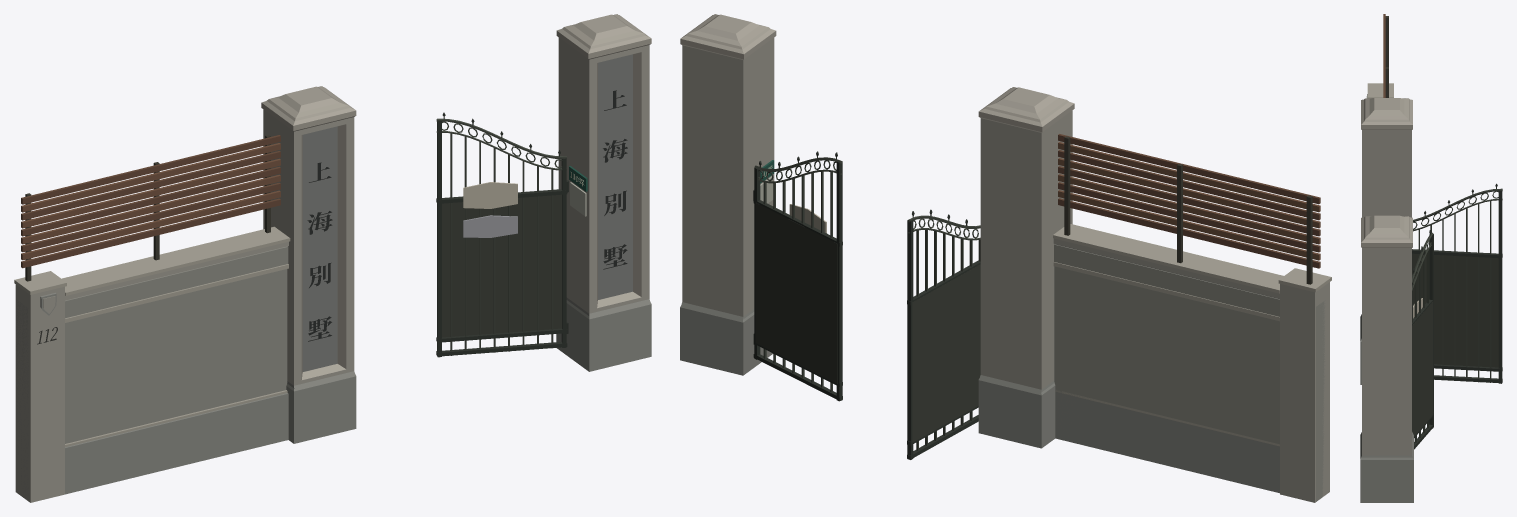
File: huangpu-shanghai-villas-nanchang-lane-110-inscribed-pier-lod.glb
The picture shows the model from 3 angles, left to right: view 1: azimuth 30°, elevation 25°; view 2: azimuth 150°, elevation 25°; view 3: azimuth 270°, elevation 25°; orthographic projection. The views are drawn at different scales.
Visible parts, largest first — view 1: 上海别墅南昌路110弄双题名石柱与112号院墙; view 2: 上海别墅南昌路110弄双题名石柱与112号院墙; view 3: 上海别墅南昌路110弄双题名石柱与112号院墙.
Boxes of the visible parts, box(x1,y1,x2,y2) form: 上海别墅南昌路110弄双题名石柱与112号院墙: box(14, 14, 651, 502); 上海别墅南昌路110弄双题名石柱与112号院墙: box(680, 14, 1331, 502); 上海别墅南昌路110弄双题名石柱与112号院墙: box(1360, 14, 1502, 502).
Size of the model in its own units: 7.67 by 3.9 by 1.88.
